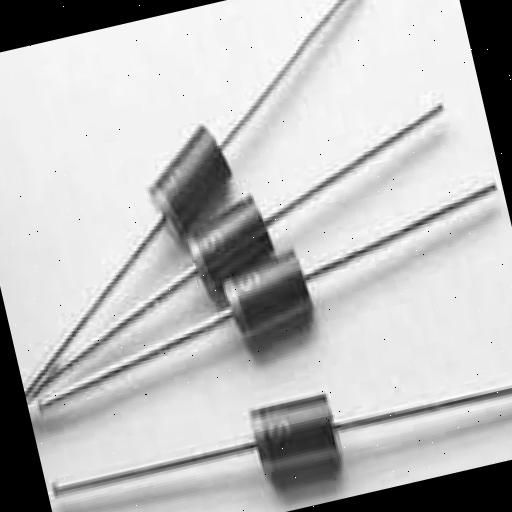DIODE: (183, 209, 380, 389), (226, 348, 388, 502), (112, 106, 250, 248), (177, 180, 300, 290)
